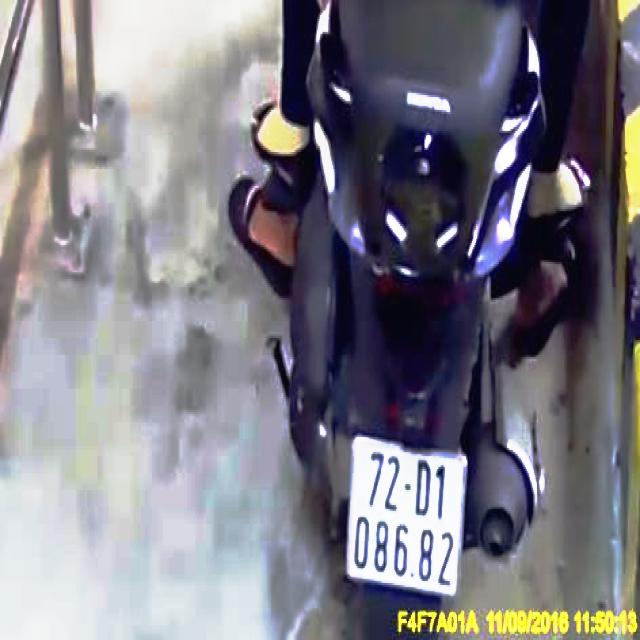license_plate: (348, 437, 464, 596)
